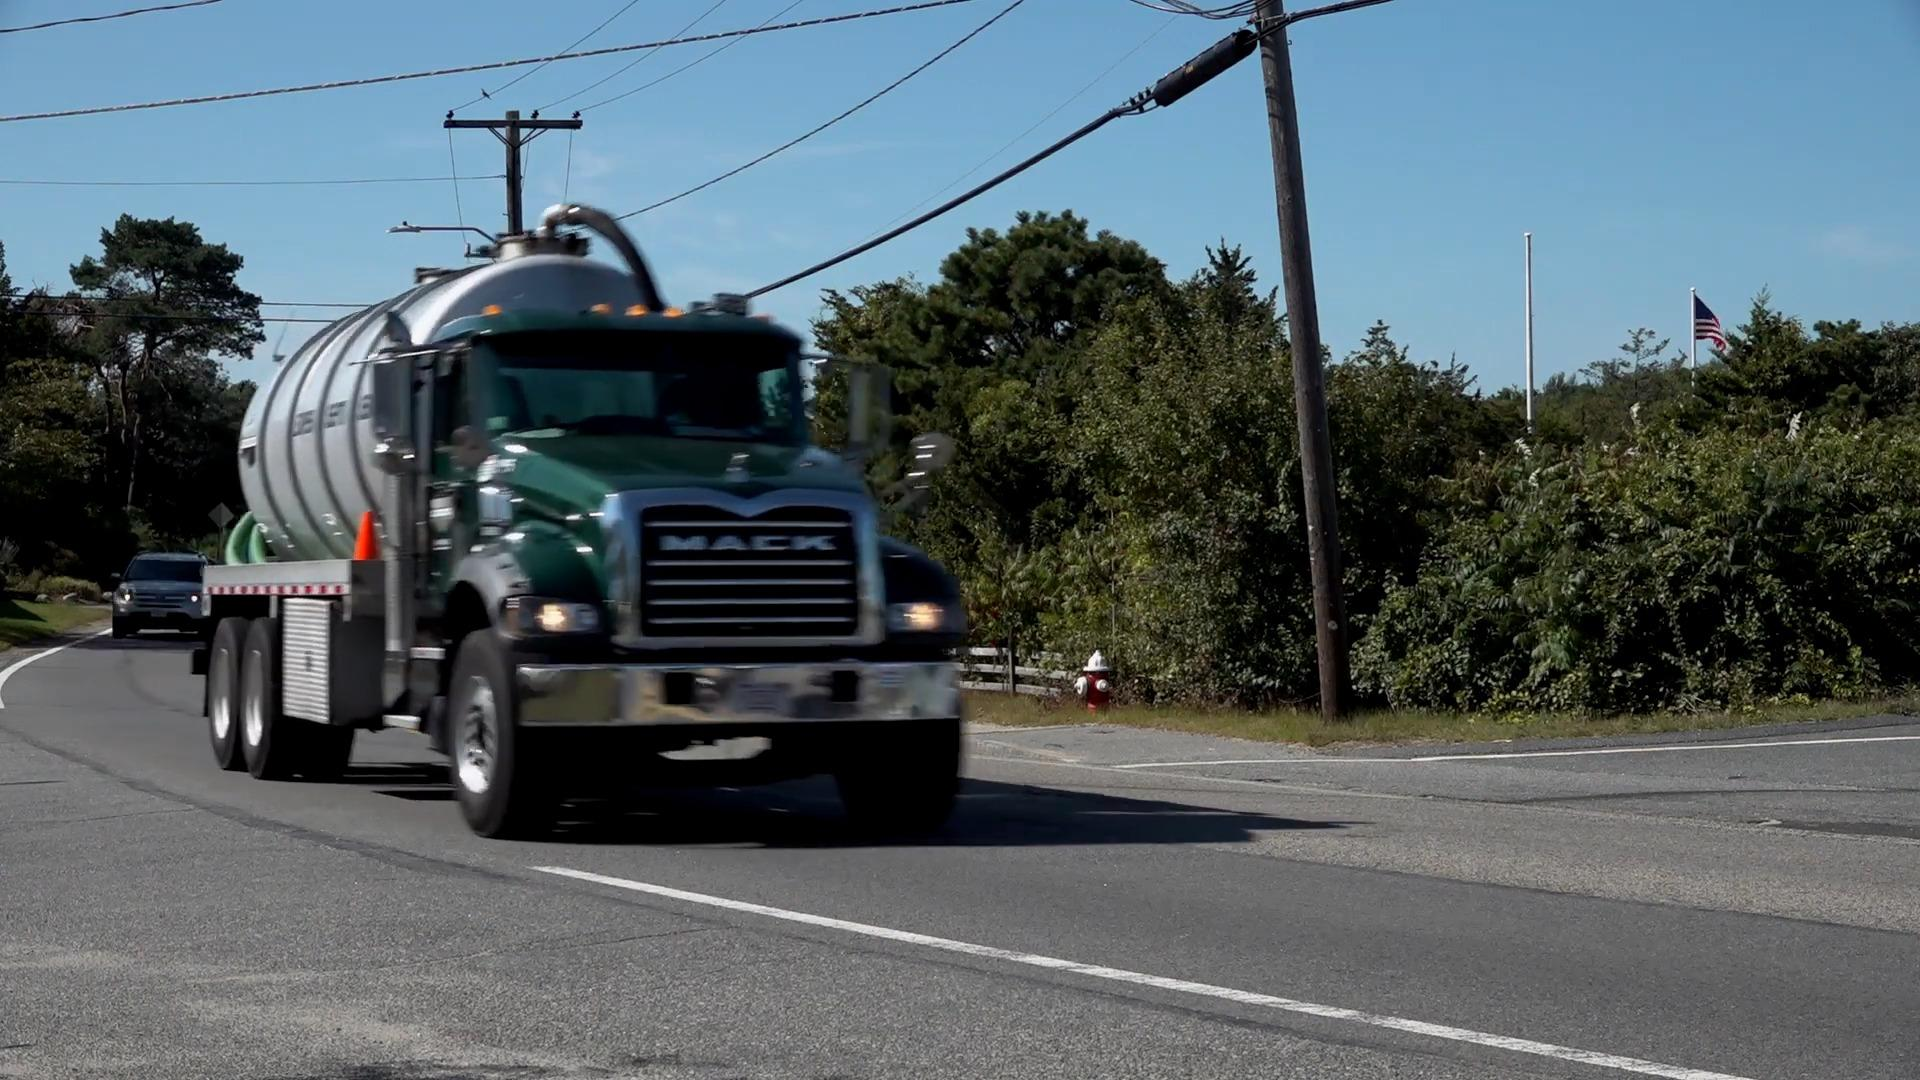suv: (109, 553, 204, 647)
truck: (203, 255, 972, 829)
